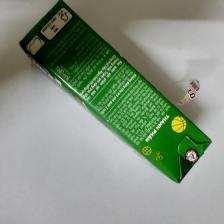Juice Box: (13, 2, 208, 192)
